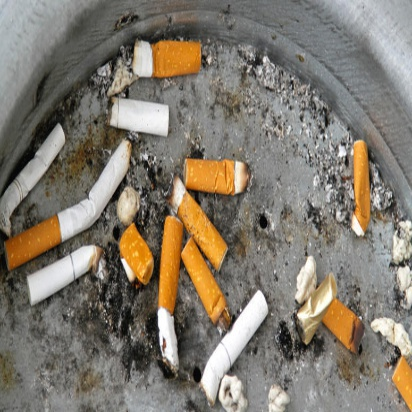cigarette: (1, 123, 77, 248), (196, 284, 272, 406), (20, 240, 106, 312), (155, 215, 182, 380), (337, 133, 377, 241), (179, 155, 263, 202), (102, 93, 177, 140), (114, 219, 157, 291), (130, 41, 206, 81), (319, 297, 365, 359)
